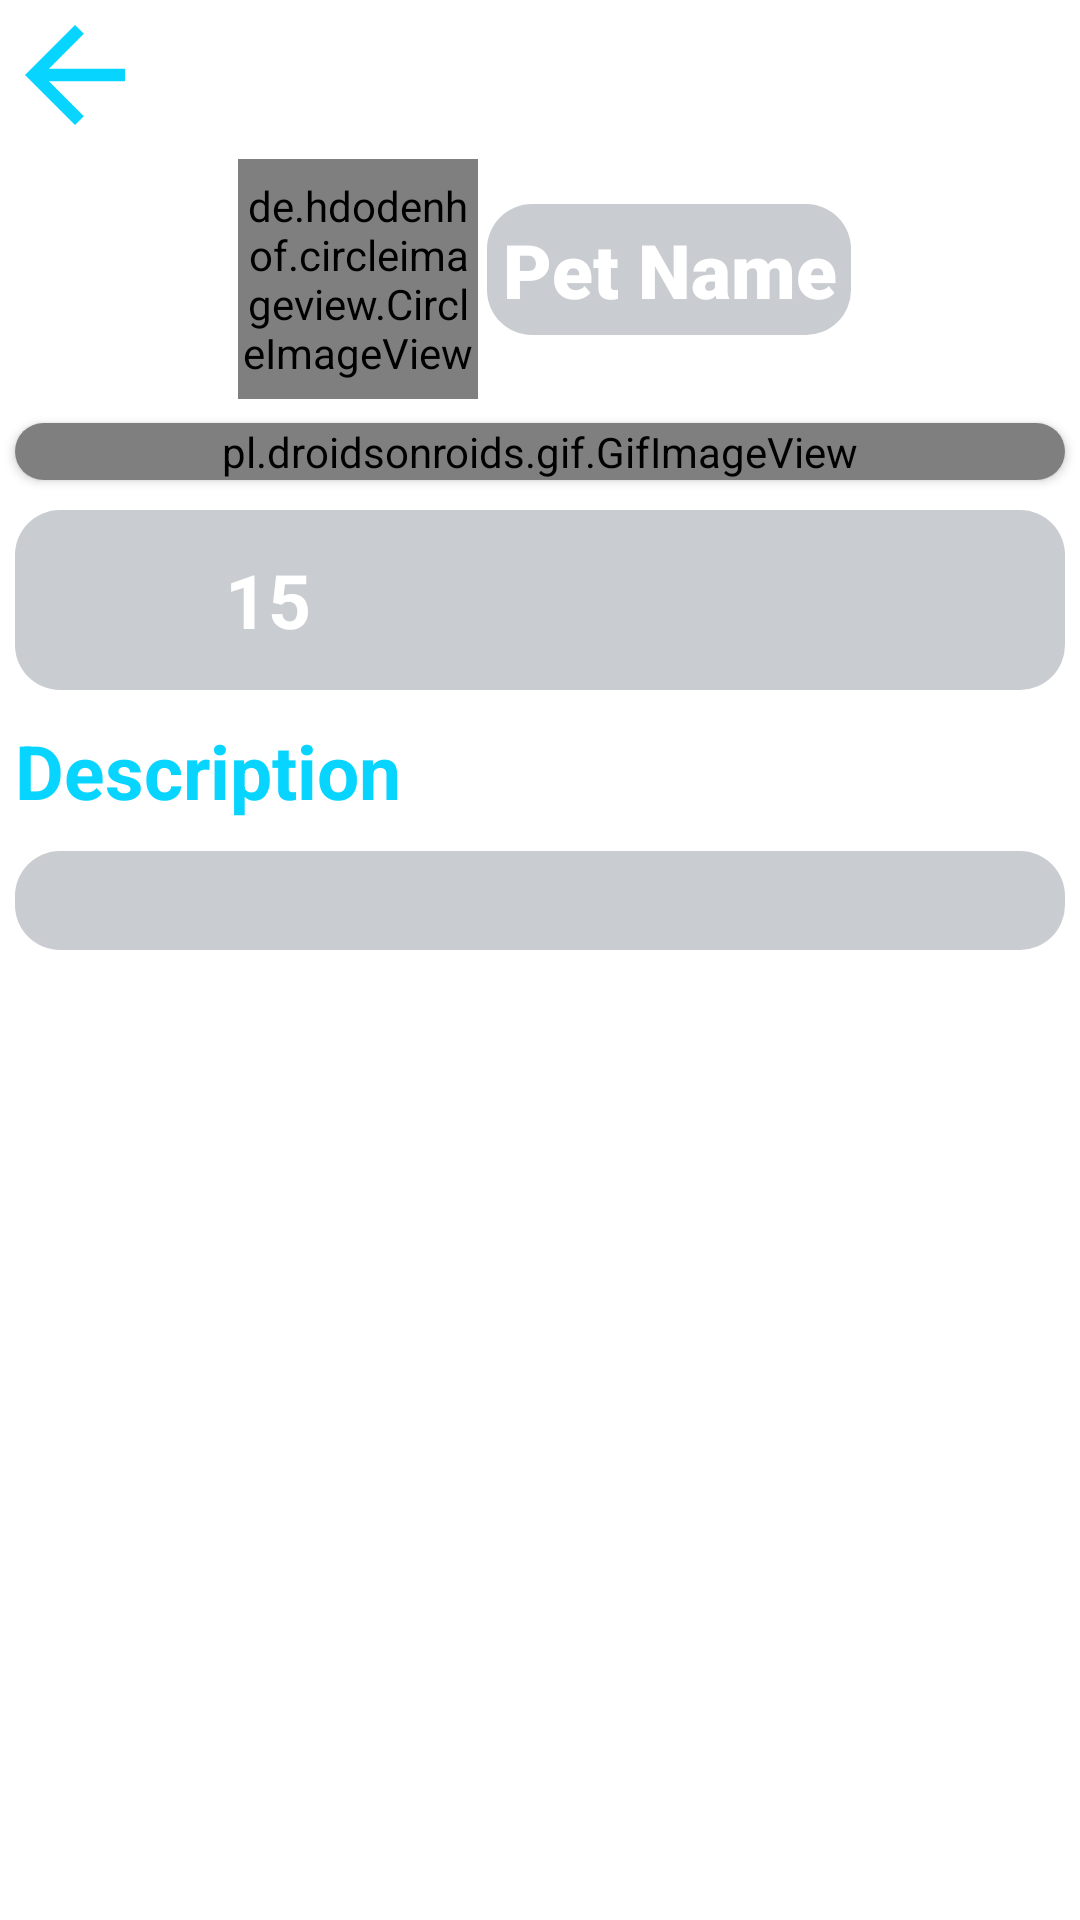

Named icons in this screenshot (1080*1920) and their centers, (x=x, y=y):
arrow back: (x=75, y=75)
